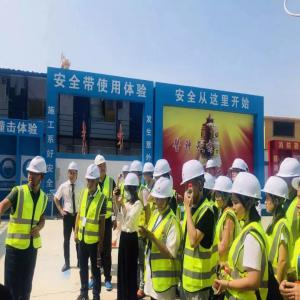white: (231, 174, 263, 220), (261, 176, 291, 216), (180, 161, 206, 200), (153, 179, 175, 214), (26, 155, 47, 190), (213, 175, 233, 208), (123, 175, 140, 201), (85, 166, 101, 192), (232, 159, 248, 180), (94, 155, 108, 177), (67, 162, 80, 184), (144, 164, 156, 184), (205, 160, 216, 175), (123, 166, 131, 179)
